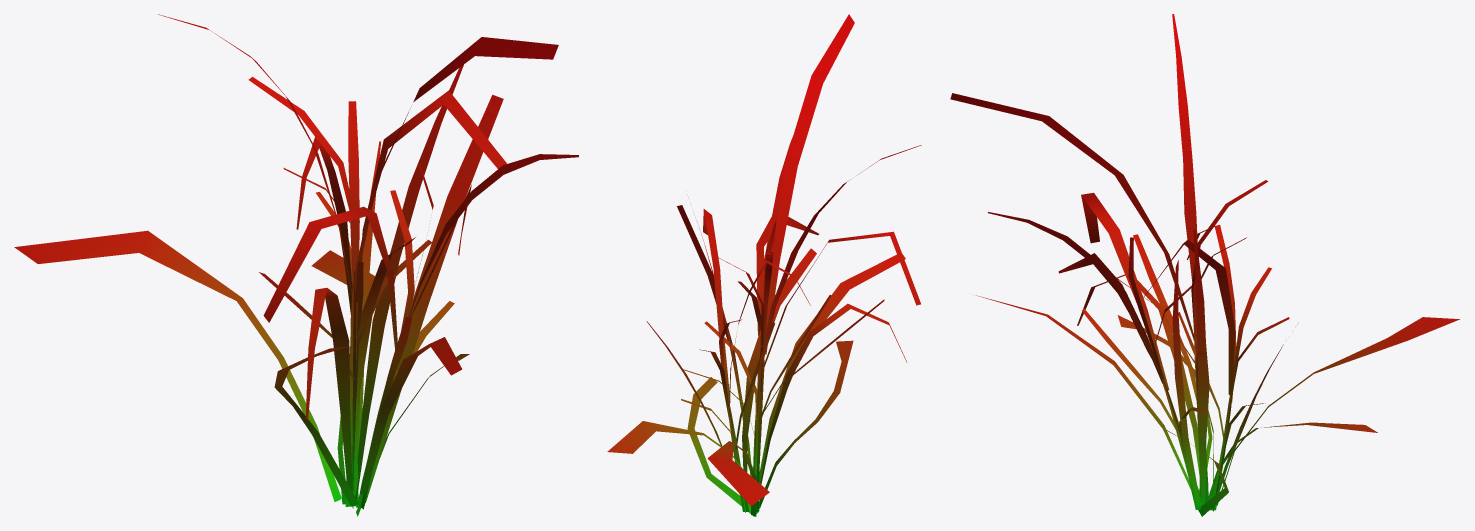
The model's file is Lemongrass_LOD2_Var1_sktne.fbx.
3 views of the same model, side by side, from view 1: azimuth 30°, elevation 25°; view 2: azimuth 150°, elevation 25°; view 3: azimuth 270°, elevation 25° (orthographic). The views are drawn at different scales.
Parts seen in each view (by area): view 1: _aab0_Var1_LOD2; view 2: _aab0_Var1_LOD2; view 3: _aab0_Var1_LOD2.
Part boxes in pixels (left/top/right/bottom): _aab0_Var1_LOD2: left=14, top=14, right=578, bottom=516; _aab0_Var1_LOD2: left=607, top=14, right=921, bottom=516; _aab0_Var1_LOD2: left=950, top=14, right=1459, bottom=516.
Bounding box in the file's own units: 27.13 × 43.75 × 46.42.
